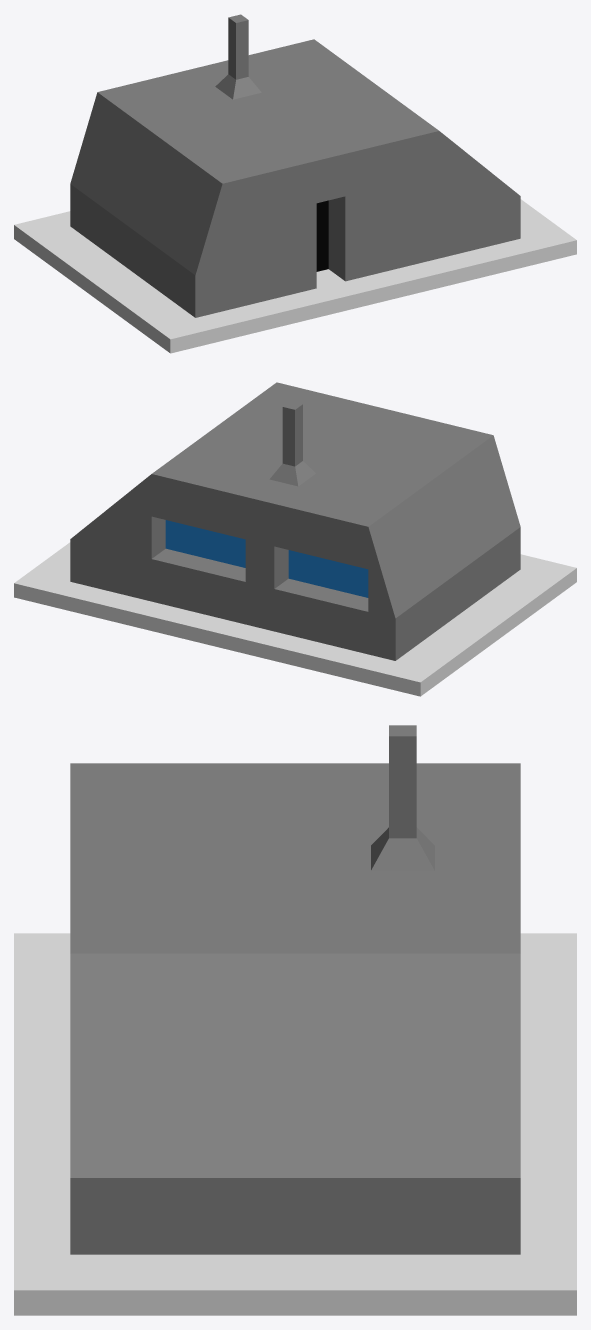
File: testBuilding2.fbx
3 renders of one model, top to bottom at view 1: azimuth 30°, elevation 25°; view 2: azimuth 150°, elevation 25°; view 3: azimuth 270°, elevation 25°, orthographic. The views are drawn at different scales.
Visible parts, largest first — view 1: Cube.001; view 2: Cube.001; view 3: Cube.001.
Part boxes in pixels (<box>): Cube.001: <box>14,14,576,353</box>; Cube.001: <box>14,382,576,696</box>; Cube.001: <box>14,725,576,1315</box>.
Bounding box in the file's own units: 300 × 150 × 200.
